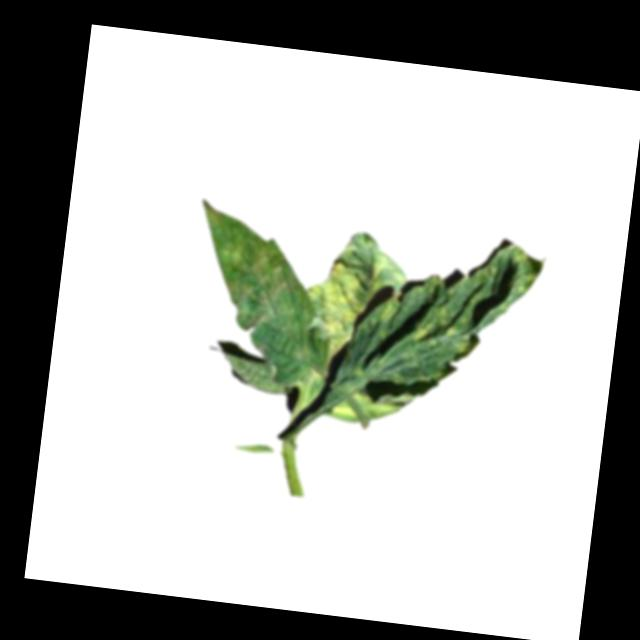Leaf_Mold: (185, 198, 313, 360), (401, 231, 546, 369), (293, 243, 407, 375)
